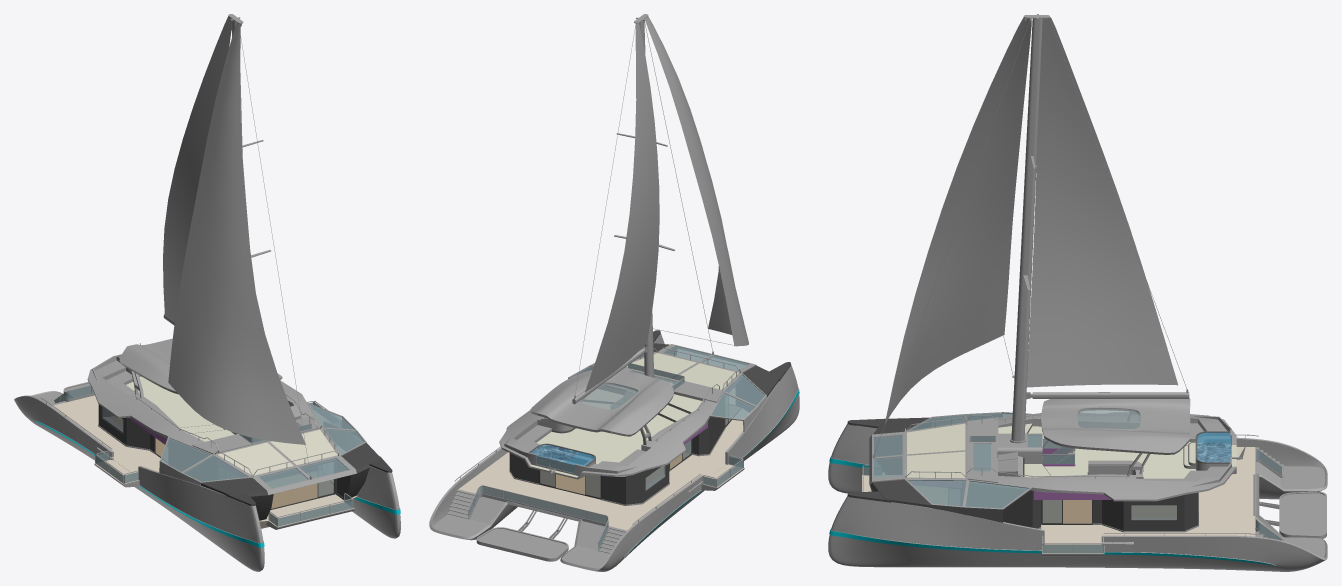
Rendered from VR_Yacht_Exterior_03.fbx.
3 views of the same model, side by side, from view 1: azimuth 30°, elevation 25°; view 2: azimuth 150°, elevation 25°; view 3: azimuth 270°, elevation 25° (orthographic). The views are drawn at different scales.
Parts seen in each view (by area): view 1: Sails, Catamaran, Glass, Walls, polySurface219, polySurface197, Gound_Floor, Roof 2, polySurface124, polySurface64, polySurface109, polySurface20 (+2 smaller); view 2: Sails, Gound_Floor, Catamaran, polySurface197, Roof 2, Walls, Glass, polySurface219, polySurface18, polySurface64, polySurface124, polySurface85 (+10 smaller); view 3: Sails, Catamaran, polySurface197, Walls, Roof 2, polySurface85, Glass, Gound_Floor, polySurface219, polySurface18, polySurface124, polySurface64 (+11 smaller).
Boxes of the visible parts, x1,y1,x2,y2 form: Sails: (163, 16, 305, 444); Catamaran: (14, 391, 400, 571); Glass: (55, 386, 364, 526); Walls: (98, 404, 392, 520); polySurface219: (159, 402, 366, 495); polySurface197: (87, 360, 313, 445); Gound_Floor: (52, 395, 357, 528); Roof 2: (119, 338, 178, 394); polySurface124: (111, 417, 333, 508); polySurface64: (41, 385, 353, 526); polySurface109: (192, 415, 321, 454); polySurface20: (266, 503, 354, 529); Sails: (585, 16, 748, 392); Gound_Floor: (449, 397, 747, 551); Catamaran: (429, 333, 799, 571); polySurface197: (499, 400, 716, 479); Roof 2: (530, 370, 673, 436); Walls: (509, 330, 790, 505); Glass: (468, 346, 764, 549); polySurface219: (568, 344, 767, 431); polySurface18: (476, 527, 568, 561); polySurface64: (454, 347, 743, 551); polySurface124: (540, 405, 739, 497); polySurface85: (572, 14, 674, 404); Sails: (885, 17, 1177, 423); Catamaran: (828, 421, 1327, 571); polySurface197: (998, 412, 1236, 501); Walls: (847, 417, 1198, 532); Roof 2: (1040, 392, 1190, 454); polySurface85: (1010, 14, 1189, 443); Glass: (864, 413, 1281, 553); Gound_Floor: (881, 447, 1280, 544); polySurface219: (869, 412, 1032, 522); polySurface18: (1279, 491, 1326, 538); polySurface124: (914, 485, 1176, 523); polySurface64: (862, 415, 1283, 553).
Size of the model in its own units: 2743 by 4940 by 5615.
